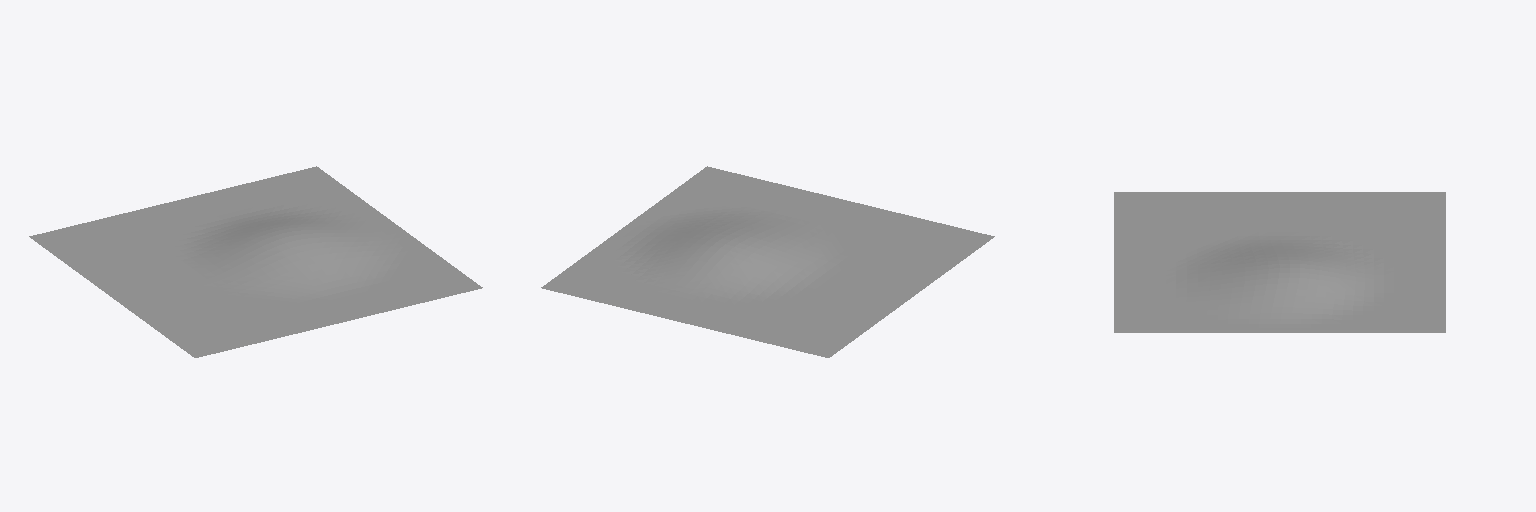
Rendered from plansza.obj.
3 views of the same model, side by side, from view 1: azimuth 30°, elevation 25°; view 2: azimuth 150°, elevation 25°; view 3: azimuth 270°, elevation 25° (orthographic).
Visible parts, largest first — view 1: Plane; view 2: Plane; view 3: Plane.
Part boxes in pixels (x1,y1,x2,y2): Plane: (29, 166, 482, 357); Plane: (541, 166, 994, 357); Plane: (1114, 192, 1445, 332).
Bounding box in the file's own units: 1000 × 42.4 × 1000.